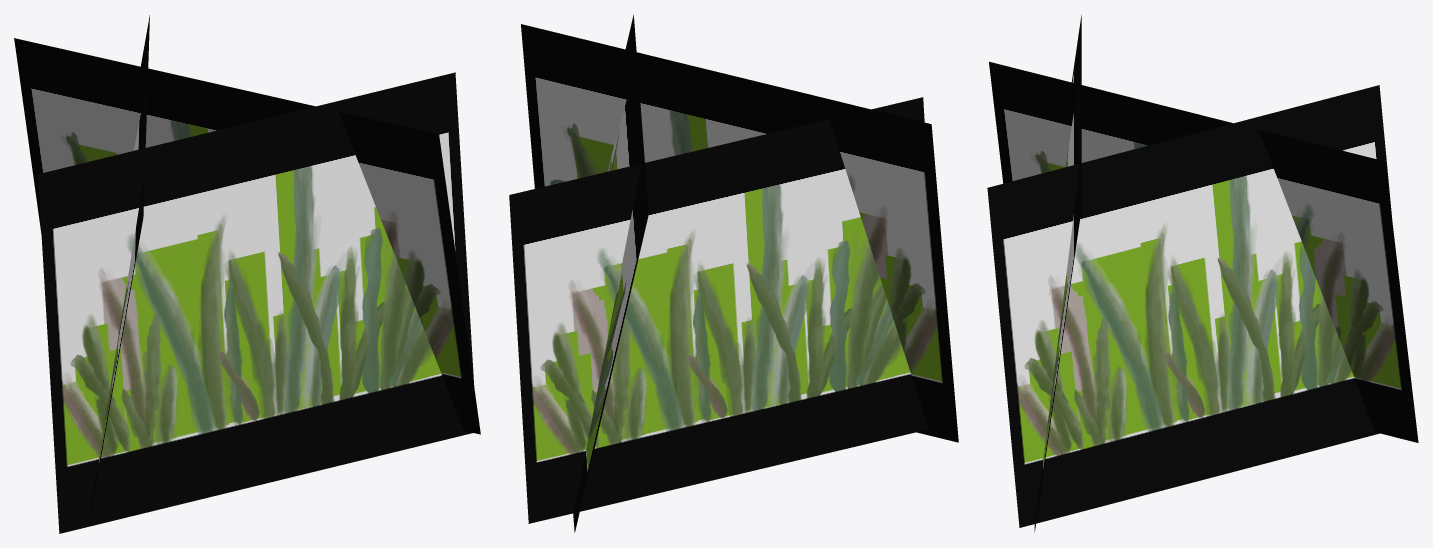
Rendered from Grass v1.fbx.
3 views of the same model, side by side, from view 1: azimuth 30°, elevation 25°; view 2: azimuth 150°, elevation 25°; view 3: azimuth 270°, elevation 25° (orthographic). The views are drawn at different scales.
Parts seen in each view (by area): view 1: grass; view 2: grass; view 3: grass.
Boxes of the visible parts, box(x1,y1,x2,y2) form: grass: box(14, 15, 480, 533); grass: box(509, 15, 958, 532); grass: box(987, 15, 1418, 532).
Size of the model in its own units: 660 by 512 by 613.
1 material, 1 textured.
